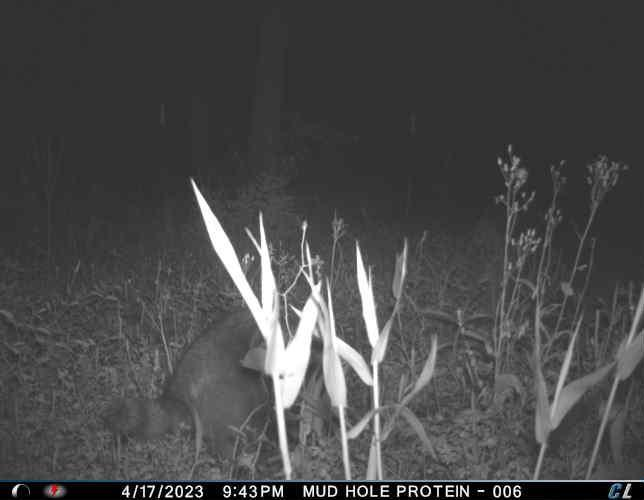Raccoon: (96, 302, 326, 464)
